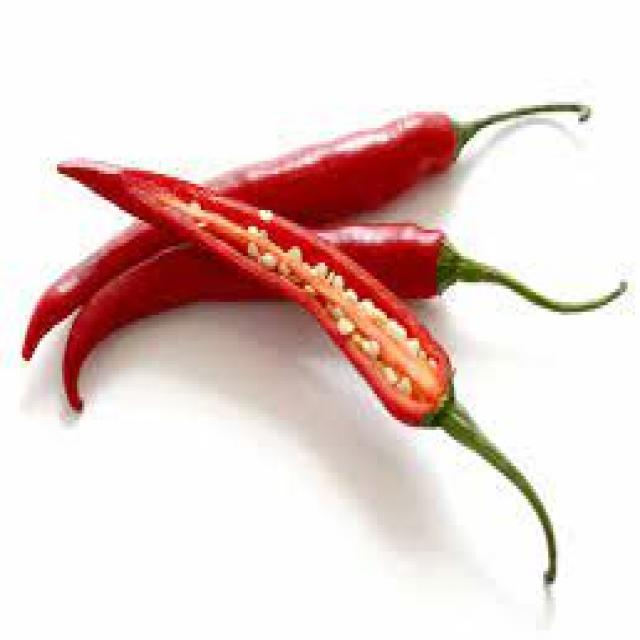red chili: (60, 164, 558, 583), (62, 246, 275, 410), (208, 112, 476, 223), (315, 223, 628, 312), (22, 223, 179, 361)
